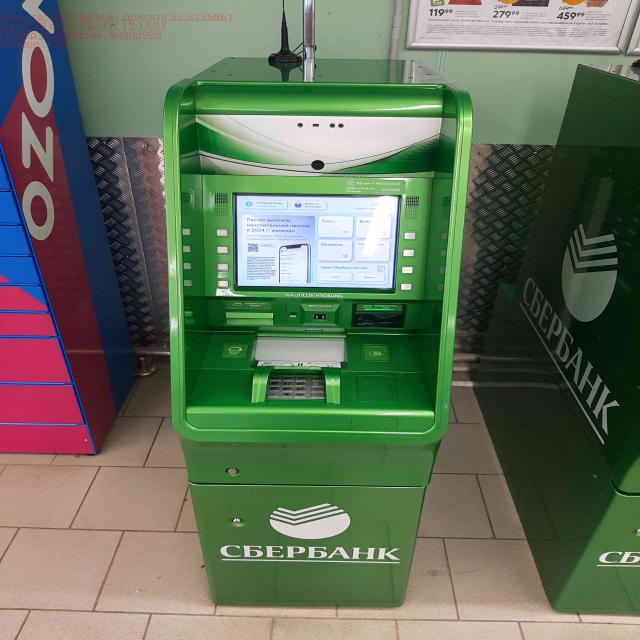bank: (157, 59, 472, 609), (478, 67, 640, 612)
